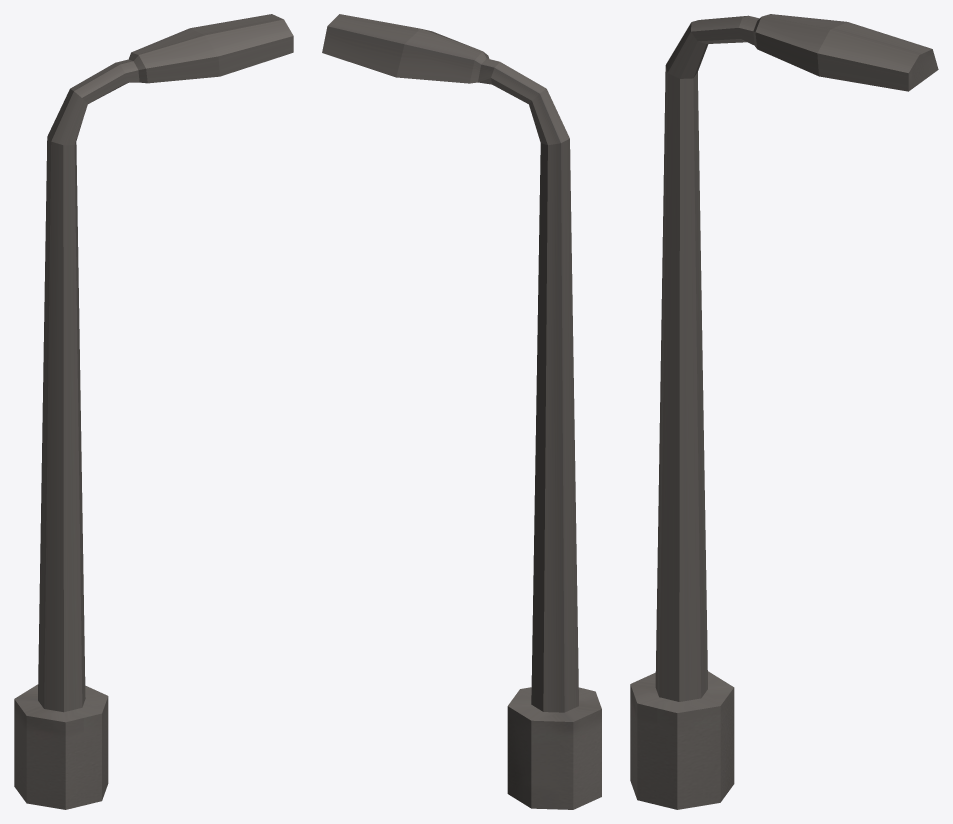
File: lamppost.glb
3 renders of one model, left to right at view 1: azimuth 30°, elevation 25°; view 2: azimuth 150°, elevation 25°; view 3: azimuth 330°, elevation 25°, orthographic. The views are drawn at different scales.
Visible parts, largest first — view 1: Cylinder; view 2: Cylinder; view 3: Cylinder.
Part boxes in pixels (x1,y1,x2,y2): Cylinder: [14, 14, 293, 809]; Cylinder: [322, 14, 601, 809]; Cylinder: [630, 14, 938, 809].
Bounding box in the file's own units: 1.94 × 5.17 × 0.5954.
2 materials, 1 textured.
